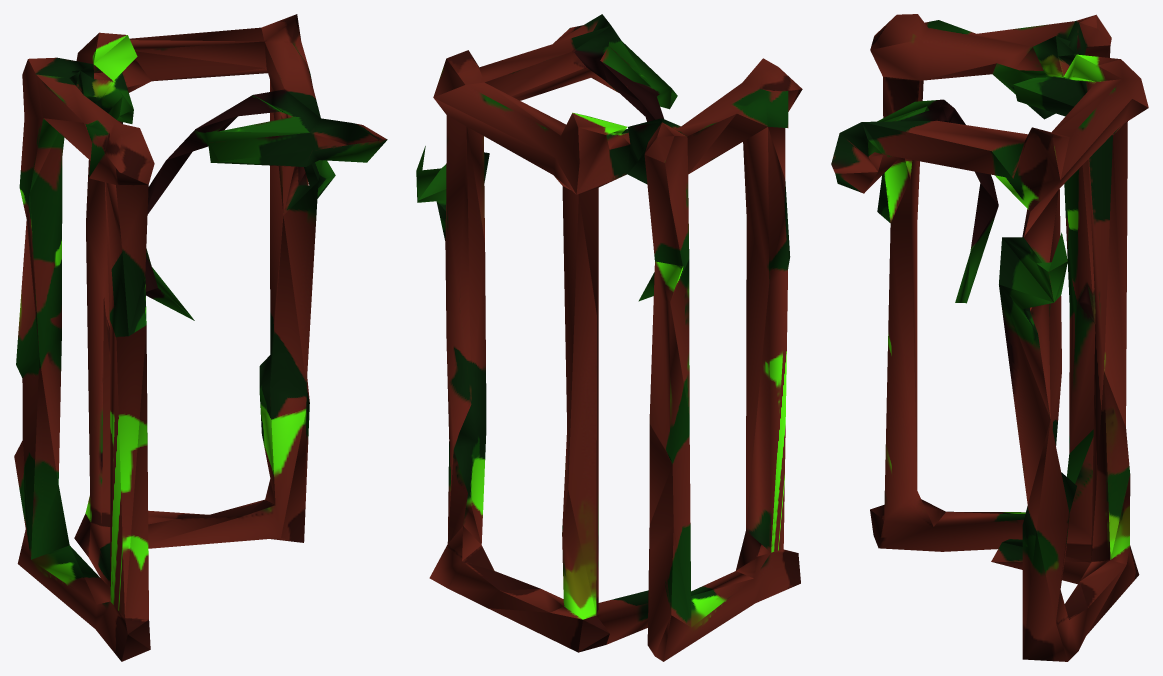
The model's file is ivy-vine.glb.
3 views of the same model, side by side, from view 1: azimuth 30°, elevation 25°; view 2: azimuth 150°, elevation 25°; view 3: azimuth 270°, elevation 25° (orthographic).
Visible parts, largest first — view 1: geometry_0; view 2: geometry_0; view 3: geometry_0.
Part boxes in pixels (x1,y1,x2,y2): geometry_0: (14,14,387,661); geometry_0: (416,14,802,661); geometry_0: (831,14,1148,661).
Size of the model in its own units: 0.5984 by 1 by 0.5368.
1 material, 1 textured.
